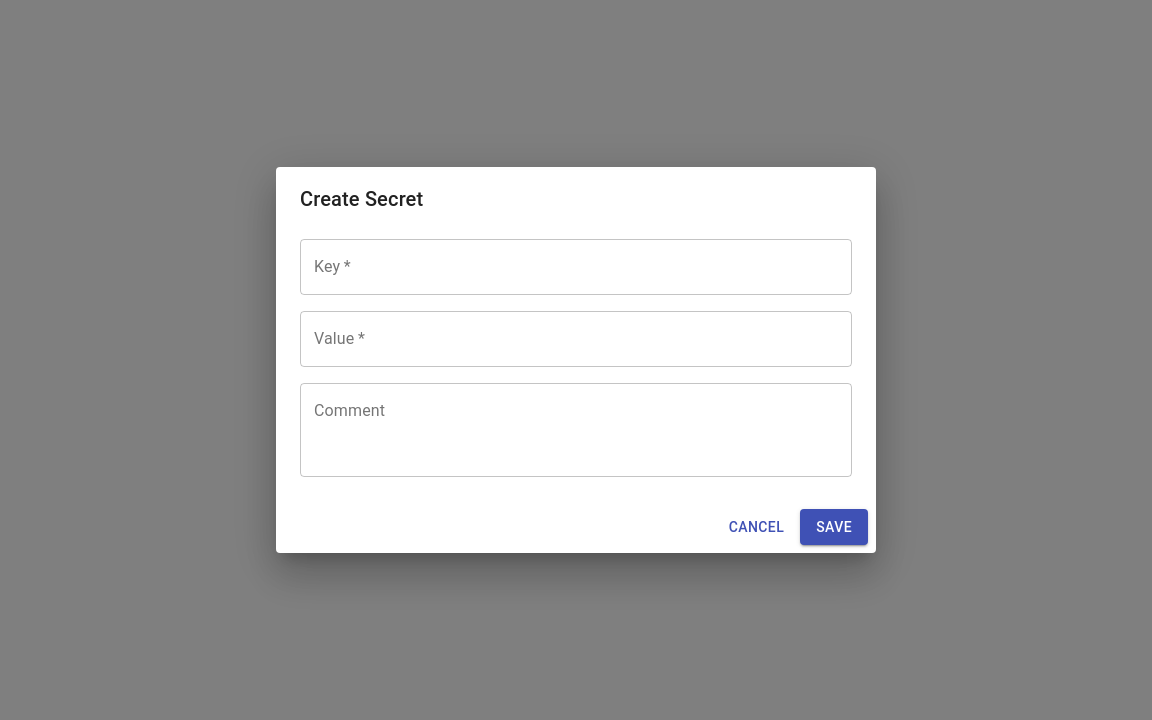
SecretDialog › should handle errors during save
The width and height of the screenshot is (1152, 720).
// Fill in the form
In the field named "Secret key": (576, 267) [300, 239, 852, 295], type "NEW_KEY"
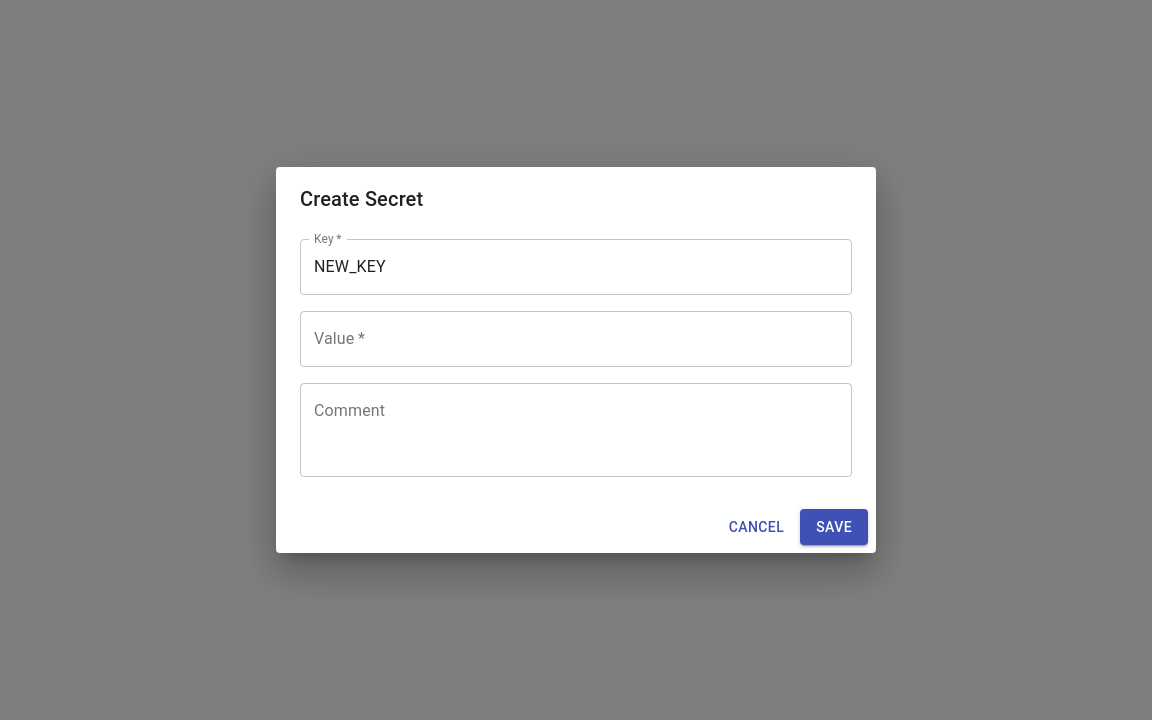
In the field named "Secret value": (576, 339) [300, 311, 852, 367], type "new-value"
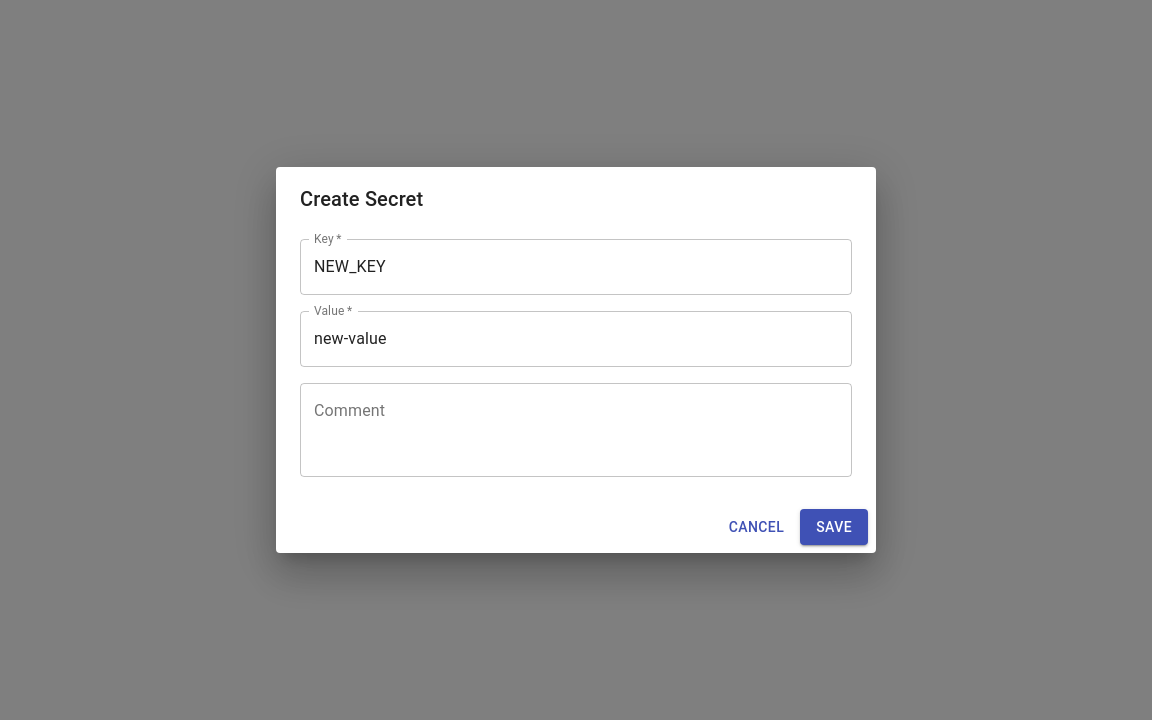
// Click save
Click the button "Save": (834, 527) [800, 509, 868, 545]
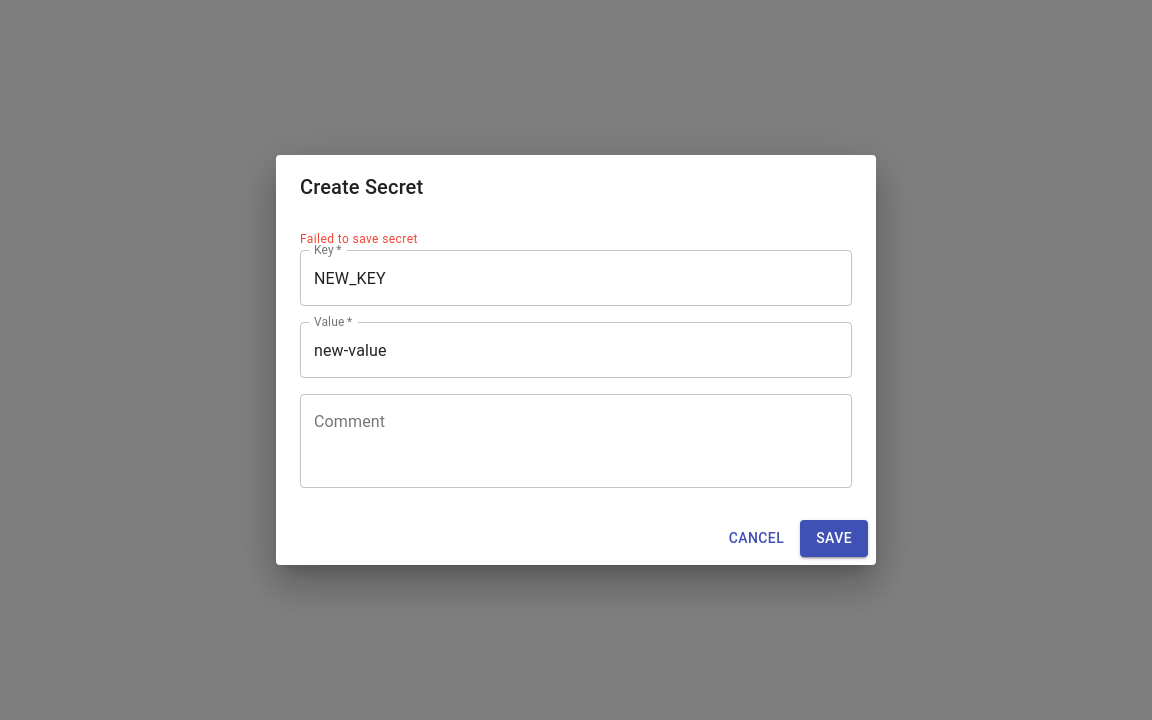
Expected: the text "Failed to save secret" is shown, [300, 232, 418, 246]
